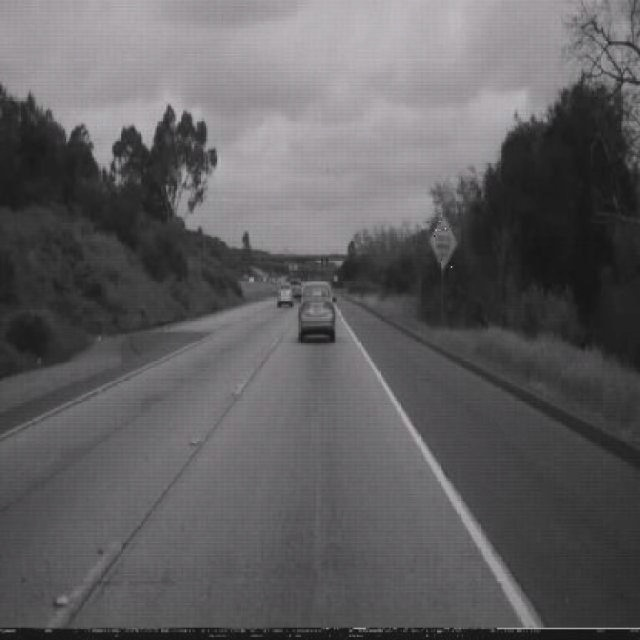thruTrafficMergeLeft: (430, 213, 458, 270)
